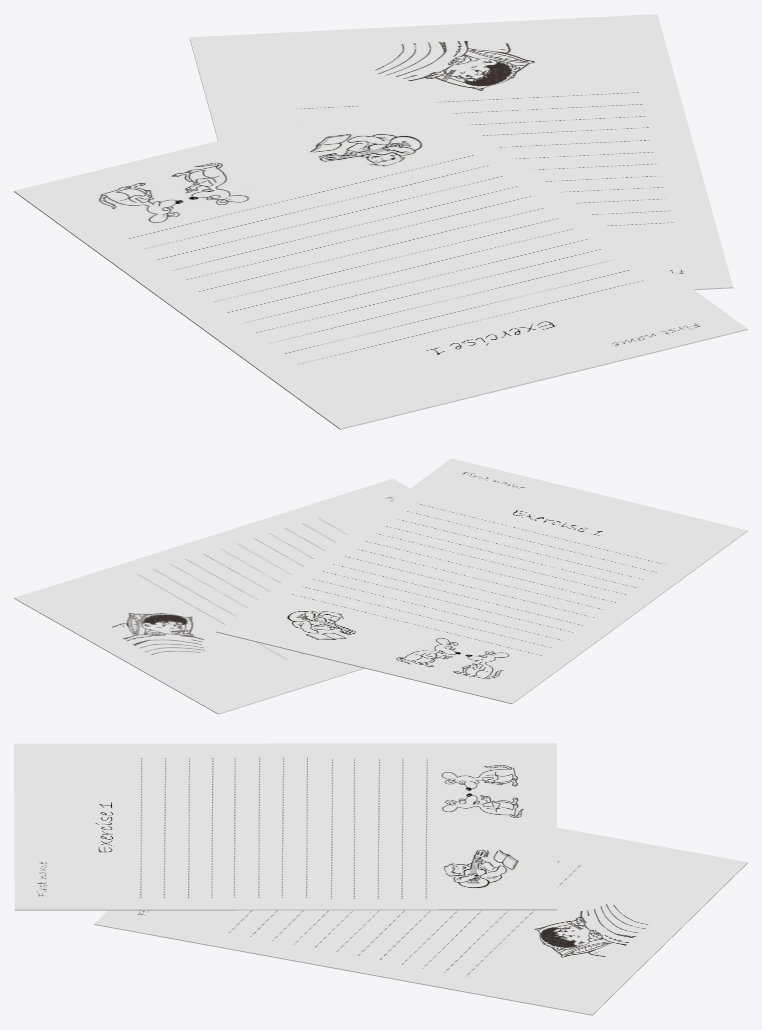
The model's file is Papers 1.FBX.
The picture shows the model from 3 angles, top to bottom: view 1: azimuth 30°, elevation 25°; view 2: azimuth 150°, elevation 25°; view 3: azimuth 270°, elevation 25°; orthographic projection. The views are drawn at different scales.
Parts seen in each view (by area): view 1: Papers 1; view 2: Papers 1; view 3: Papers 1.
Boxes of the visible parts, x1,y1,x2,y2 form: Papers 1: (14,14,747,429); Papers 1: (14,458,747,714); Papers 1: (14,743,747,1015).
Size of the model in its own units: 34.21 by 0.1034 by 39.21.
Materials: 1 (1 with a texture image).
